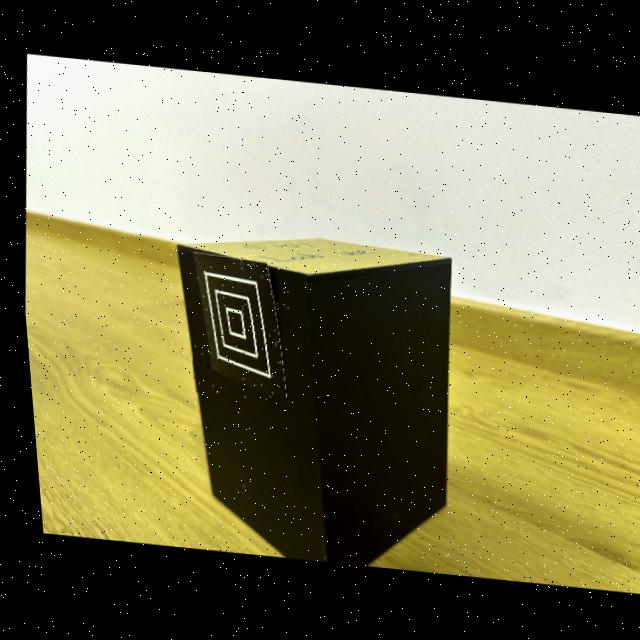BULLSEYE: (189, 251, 281, 401)
